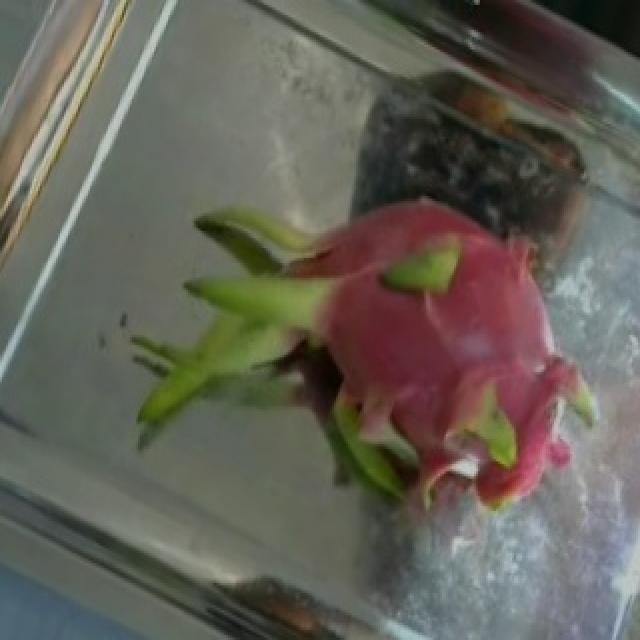fruit: (170, 104, 632, 576)
